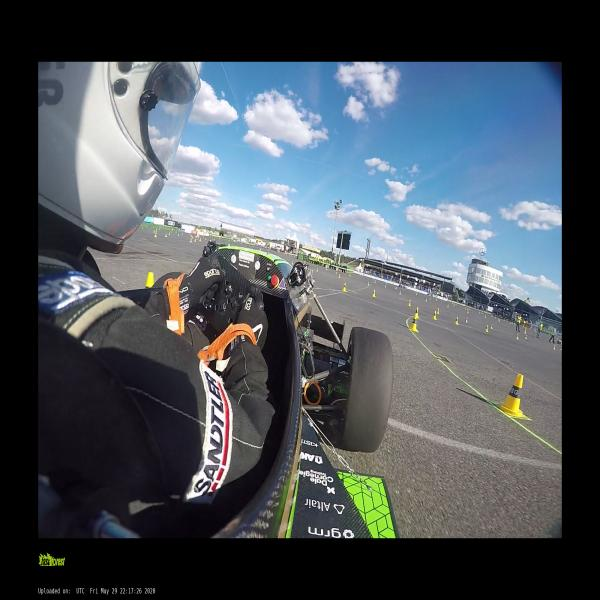yellow_cone: (497, 373, 526, 418), (145, 271, 154, 289), (409, 315, 418, 332), (413, 308, 419, 318), (342, 283, 347, 292), (455, 316, 459, 325), (433, 311, 437, 320), (372, 290, 376, 297), (153, 232, 157, 237), (409, 300, 412, 306), (553, 344, 556, 350), (490, 324, 493, 330), (436, 308, 439, 314), (524, 334, 527, 340), (486, 324, 488, 332), (367, 281, 370, 286), (465, 318, 468, 323), (516, 334, 518, 340), (560, 345, 562, 351), (316, 267, 318, 272), (338, 273, 340, 278), (384, 284, 386, 288), (399, 291, 401, 295), (349, 274, 351, 277), (374, 281, 375, 283)
